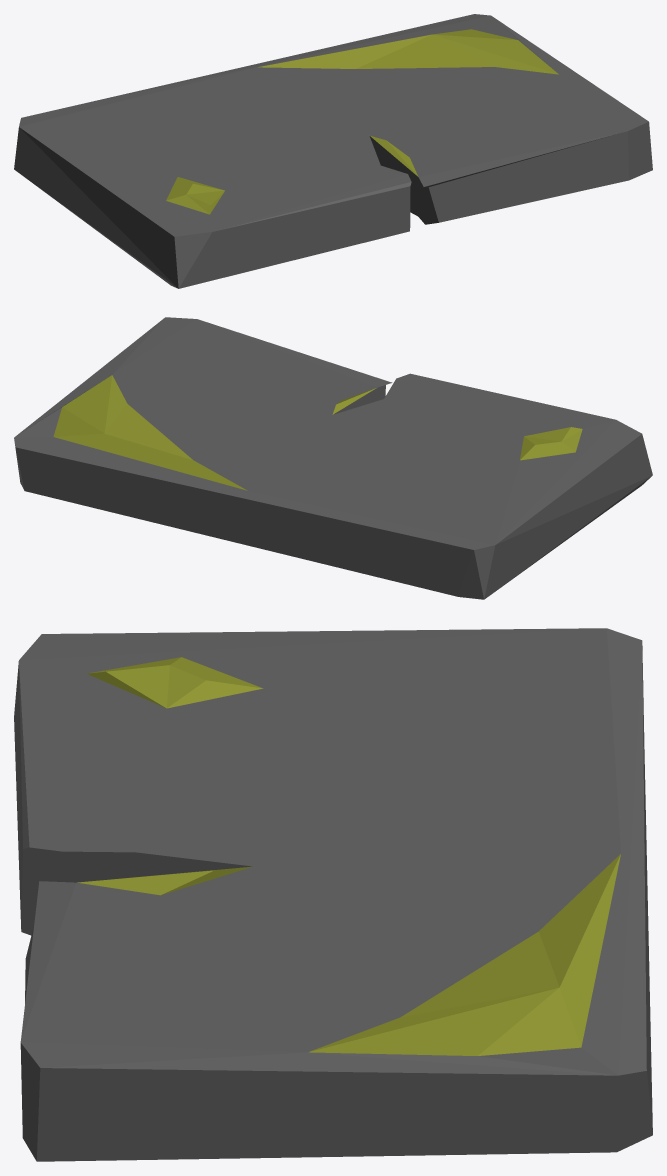
File: tile_moss_type_2_LOD3.fbx
3 views of the same model, one above another, from view 1: azimuth 30°, elevation 25°; view 2: azimuth 150°, elevation 25°; view 3: azimuth 270°, elevation 25° (orthographic). The views are drawn at different scales.
Parts seen in each view (by area): view 1: tile_moss_type_2; view 2: tile_moss_type_2; view 3: tile_moss_type_2.
Part boxes in pixels (bbox=[...]): tile_moss_type_2: bbox=[14, 14, 652, 288]; tile_moss_type_2: bbox=[14, 317, 652, 599]; tile_moss_type_2: bbox=[14, 628, 652, 1161].
Bounding box in the file's own units: 196 × 21.98 × 120.
